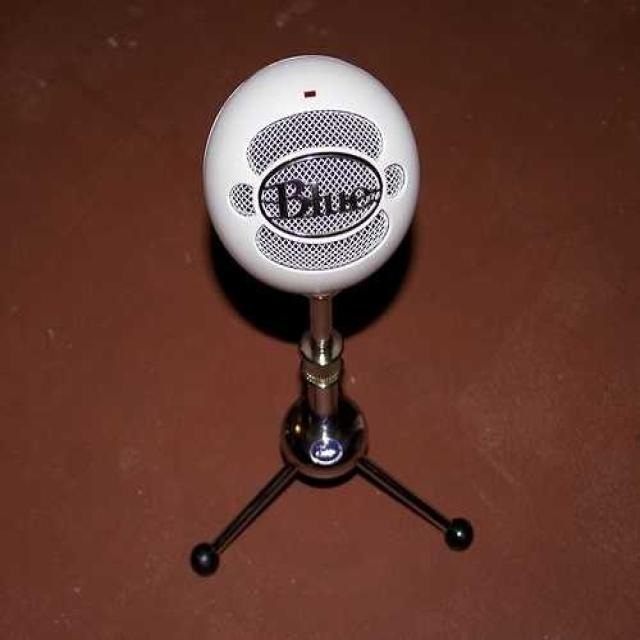microphone: (195, 51, 426, 303)
